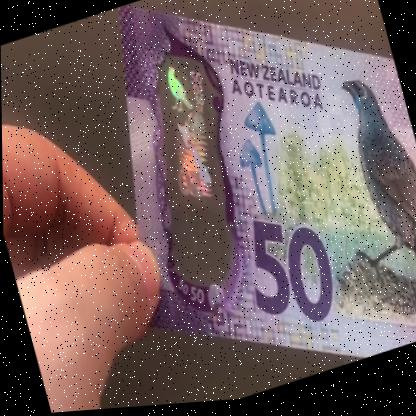50B: (141, 56, 248, 272)
